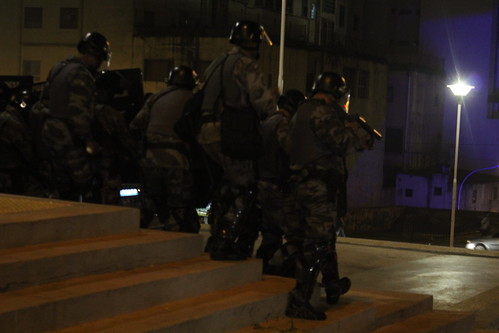light pole: (438, 69, 474, 249)
policeman: (292, 72, 376, 302), (201, 19, 278, 255), (41, 27, 106, 199), (138, 65, 202, 227), (96, 68, 145, 207)
weapon: (344, 116, 388, 155)
